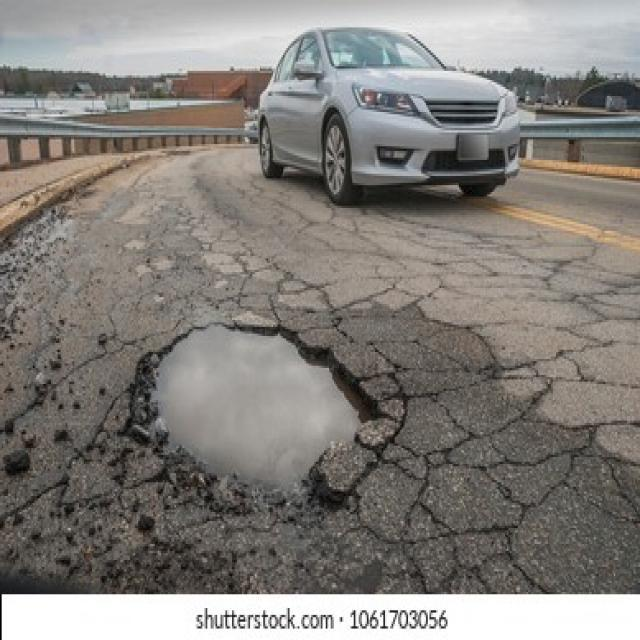Pothole: (130, 316, 387, 508)
